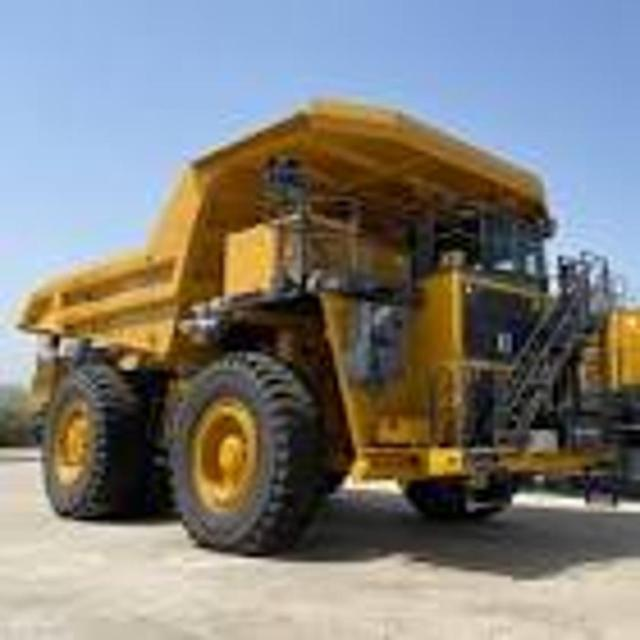dump_truck: (4, 95, 628, 560)
